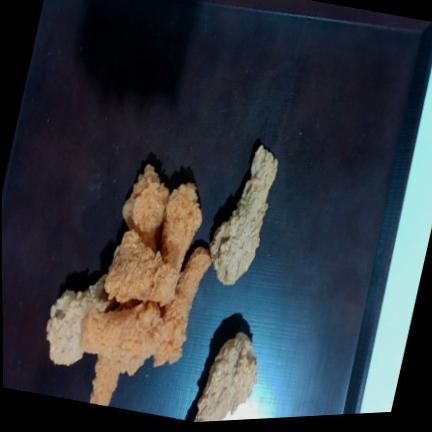chicken: (210, 146, 278, 285), (154, 247, 211, 366), (80, 302, 164, 375), (47, 274, 111, 366), (105, 231, 180, 306), (195, 333, 257, 422), (123, 165, 170, 251), (161, 183, 202, 272)
